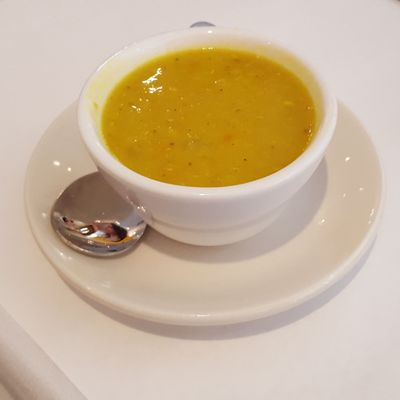sushi: (76, 24, 339, 246)
